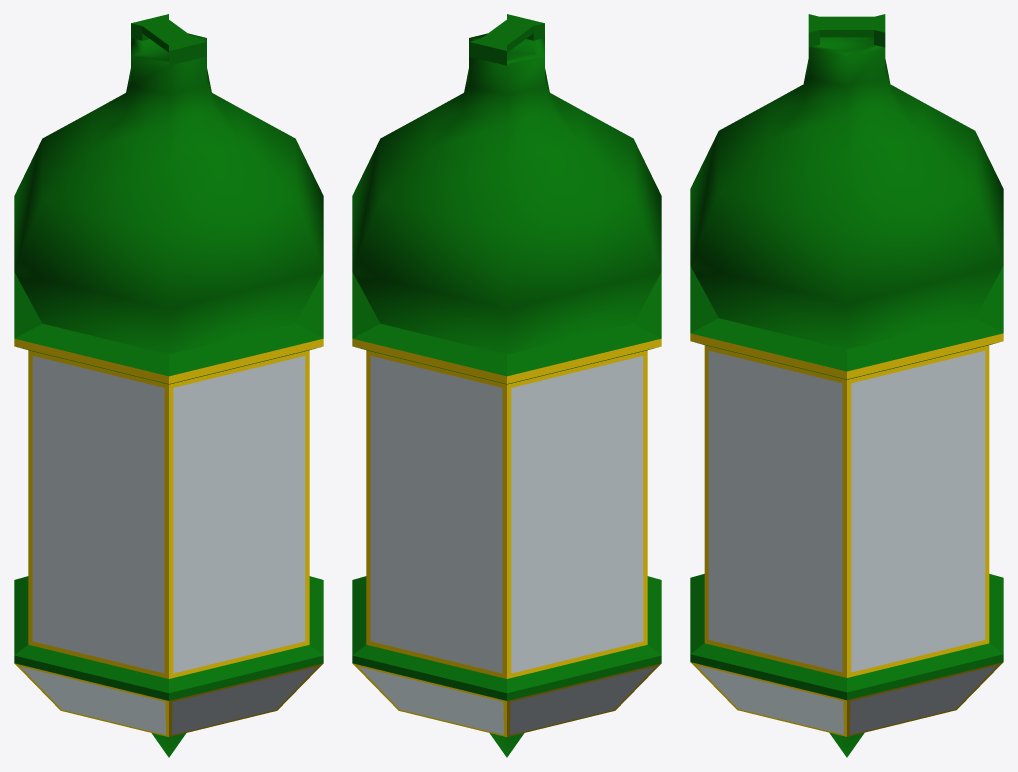
File: Lamp-v1.fbx
The picture shows the model from 3 angles, left to right: view 1: azimuth 30°, elevation 25°; view 2: azimuth 150°, elevation 25°; view 3: azimuth 270°, elevation 25°; orthographic projection.
Parts seen in each view (by area): view 1: HangingLamp; view 2: HangingLamp; view 3: HangingLamp.
Boxes of the visible parts, <box> form: HangingLamp: <box>14,14,323,757</box>; HangingLamp: <box>352,14,661,757</box>; HangingLamp: <box>690,14,1003,757</box>.
Size of the model in its own units: 44 by 98.55 by 38.11.
